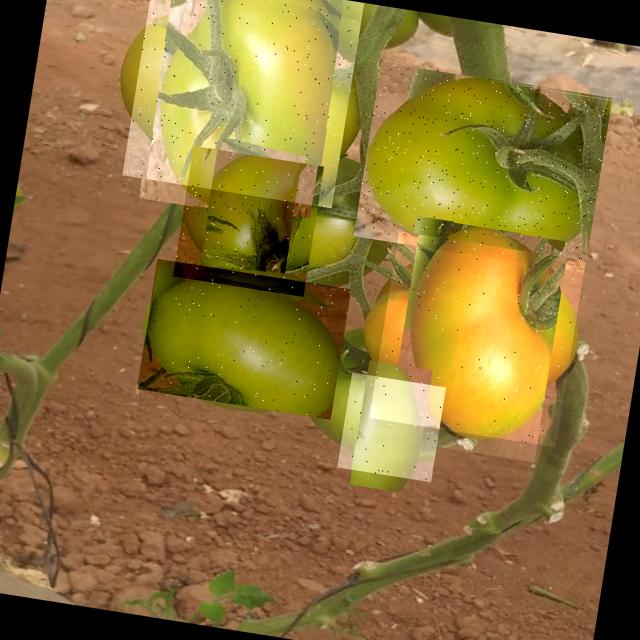Unripe Tomato: (353, 61, 612, 273), (122, 0, 364, 208), (370, 232, 586, 448), (138, 259, 352, 420), (173, 146, 324, 297), (337, 372, 446, 482)
